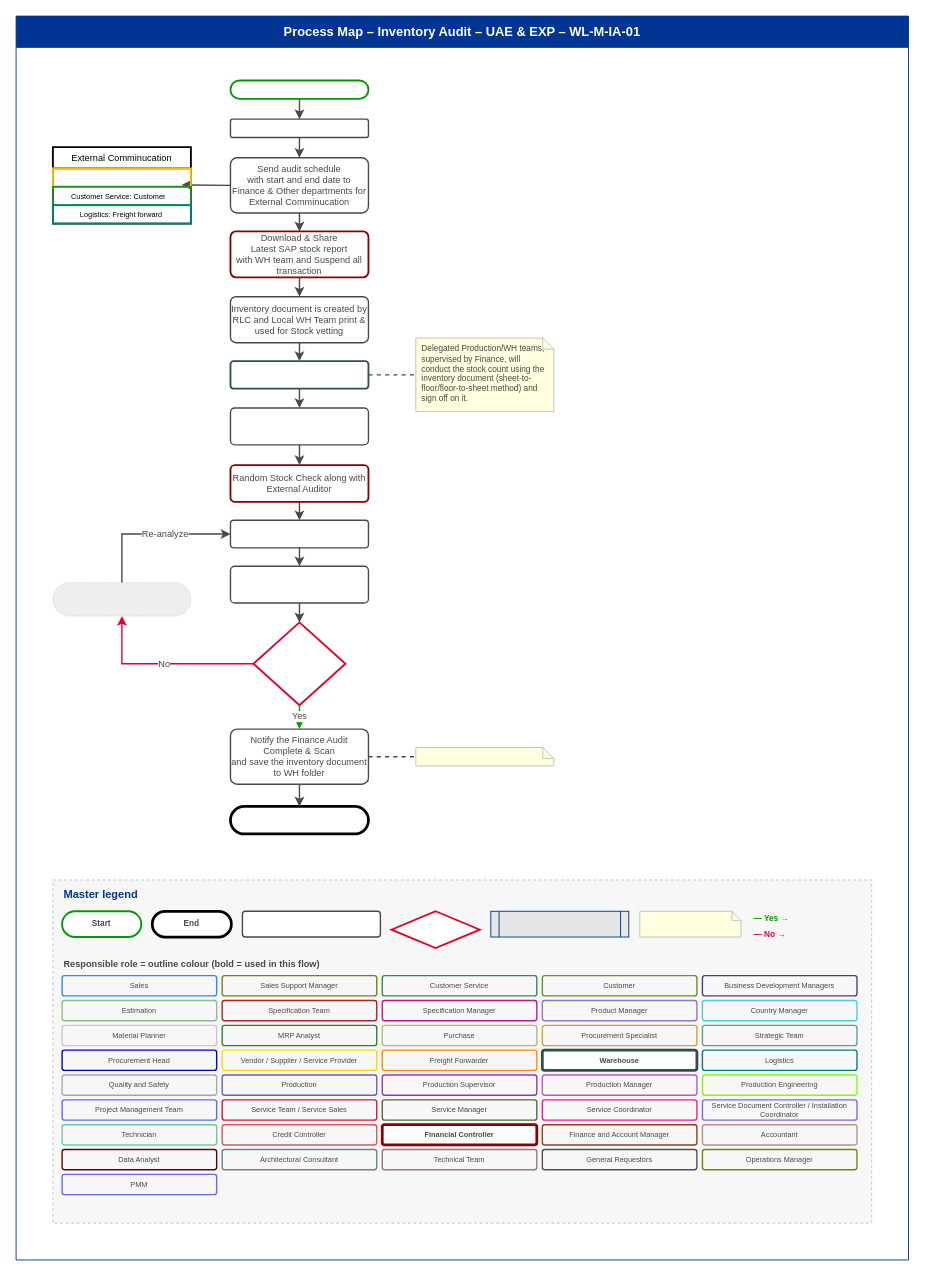
Some shapes in this 925 by 1276 pixel diagram are drawn without their labels. The shapes that lost their labels are listed below. From the top down, each one's centre as x and y in pixels, then its label:
At (x=299, y=89): "AUDIT".
At (x=299, y=128): "AuditPlanning & Notification".
At (x=121, y=177): "Purchase: vendor".
At (x=299, y=374): "Perform Complete stock count against the report".
At (x=299, y=426): "Random Stock check by Supervisors for high value items".
At (x=299, y=533): "Enter physical stock count data in SAP".
At (x=121, y=599): "CORRECTION Ref S#: WL-S-SC-01".
At (x=299, y=584): "Generate Variance report comparing system Against physical stock".
At (x=299, y=663): "without Descripency".
At (x=484, y=756): "keep the hard copy for 1 year".
At (x=299, y=820): "EXIT".
At (x=311, y=923): "Activity (outline = role)".
At (x=435, y=929): "Decision".
At (x=559, y=923): "Linked process (Ref ID)".
At (x=690, y=923): "Note / checklist".
